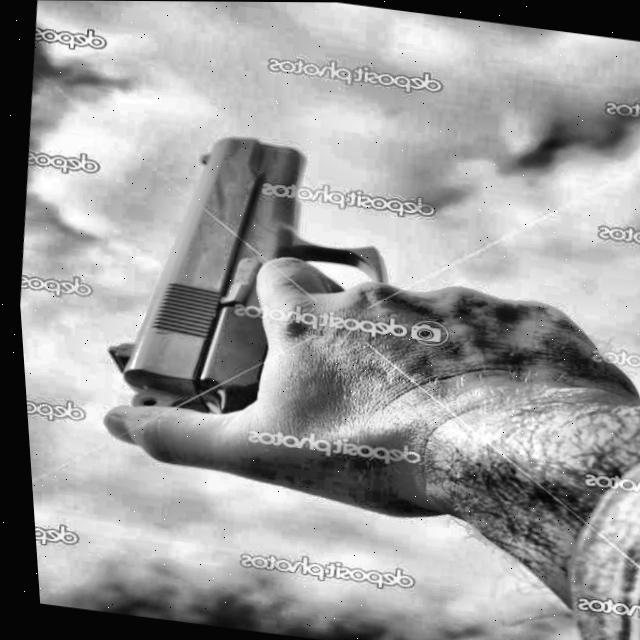pistol: (93, 128, 395, 517)
